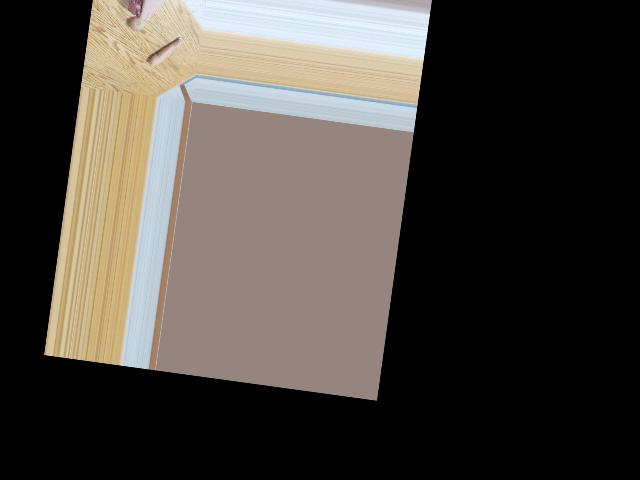onion: (127, 15, 146, 33)
